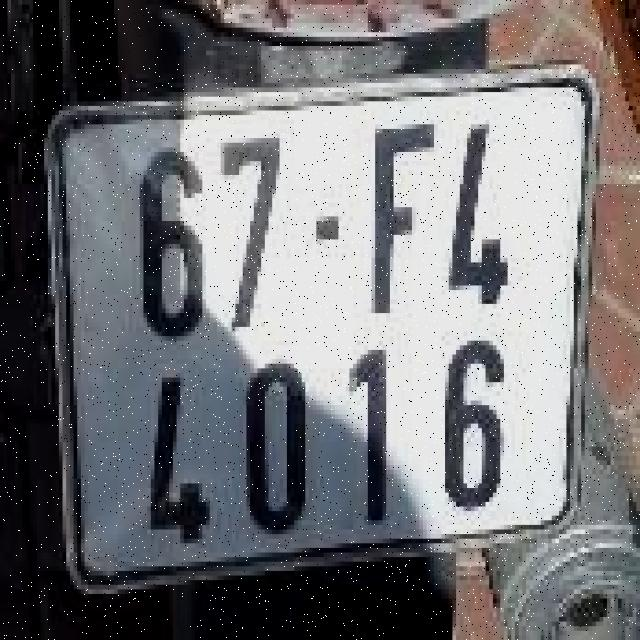0: (239, 348, 320, 546)
1: (328, 346, 404, 552)
4: (134, 350, 226, 557), (449, 108, 526, 311)
6: (121, 127, 221, 352), (430, 327, 522, 534)
7: (211, 104, 300, 348)
F: (359, 115, 443, 327)
